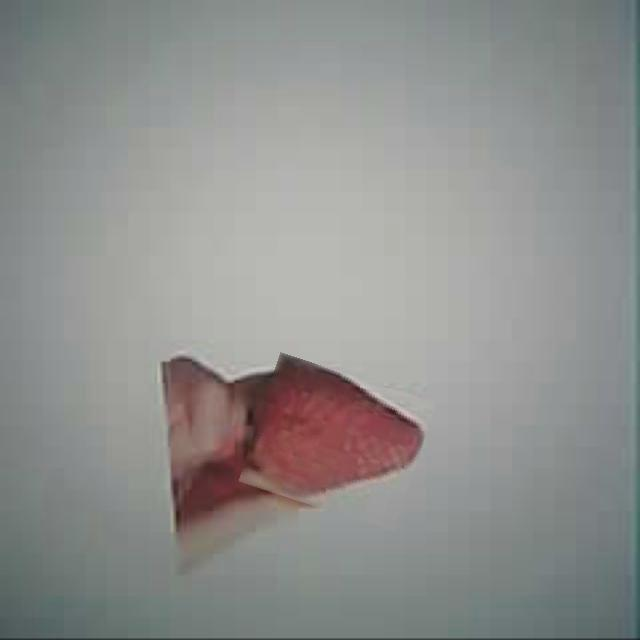strawberry: (247, 362, 427, 520)
